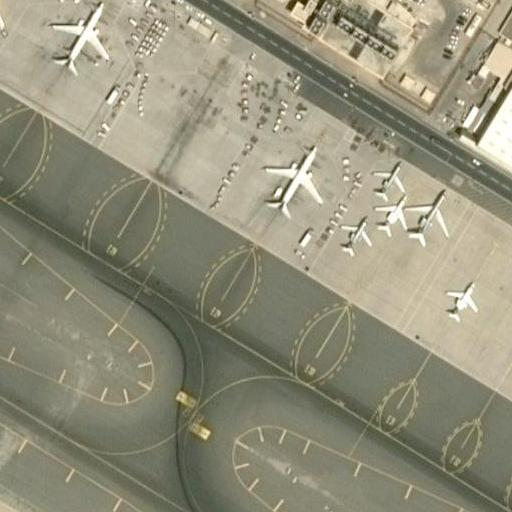Aircraft: (48, 0, 110, 77), (261, 144, 323, 215), (406, 190, 450, 246), (373, 195, 407, 239), (371, 156, 405, 200), (443, 279, 479, 319), (339, 216, 373, 254), (0, 0, 7, 50)
